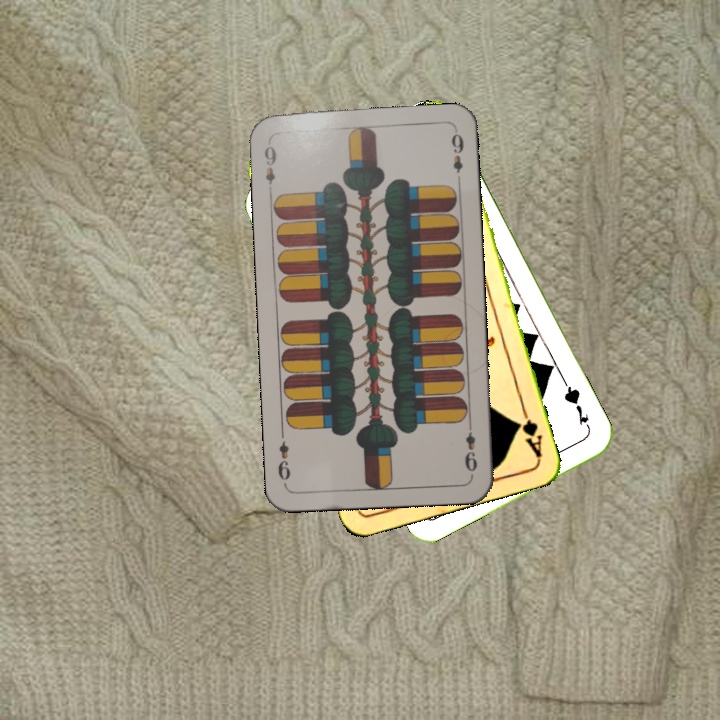E9: (460, 418, 480, 474), (260, 142, 279, 196)
G7: (559, 378, 594, 433)
GA: (512, 402, 545, 460)
